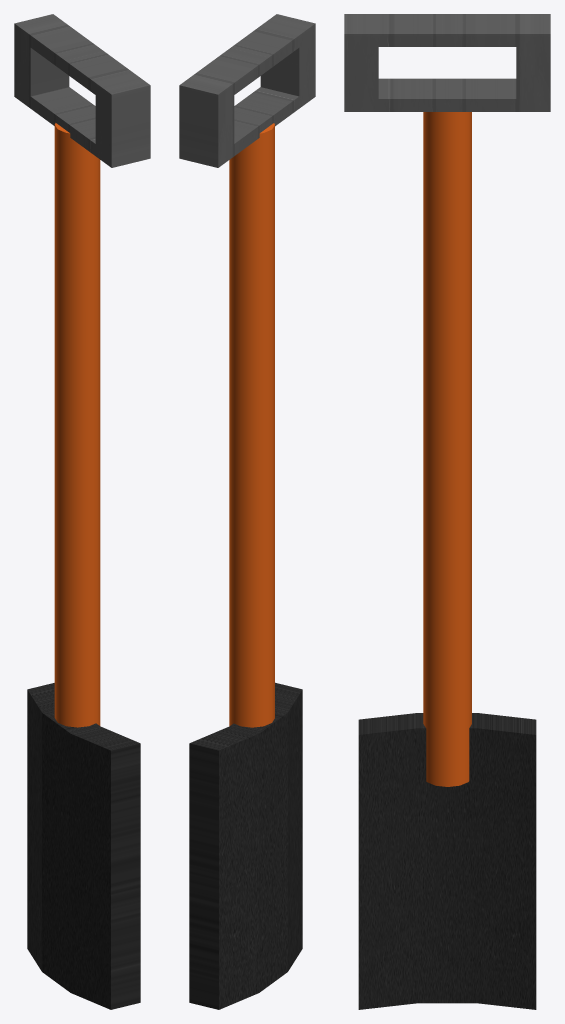
Rendered from Obstacle_RoadWorks_Shovel.fbx.
The picture shows the model from 3 angles, left to right: view 1: azimuth 30°, elevation 25°; view 2: azimuth 150°, elevation 25°; view 3: azimuth 270°, elevation 25°; orthographic projection. The views are drawn at different scales.
Visible parts, largest first — view 1: Obstacle_Roadworks_Shovel; view 2: Obstacle_Roadworks_Shovel; view 3: Obstacle_Roadworks_Shovel.
Part boxes in pixels (<box>): Obstacle_Roadworks_Shovel: <box>14,14,150,1009</box>; Obstacle_Roadworks_Shovel: <box>179,14,315,1009</box>; Obstacle_Roadworks_Shovel: <box>344,14,550,1009</box>.
Bounding box in the file's own units: 2.39 × 8.84 × 46.15.
